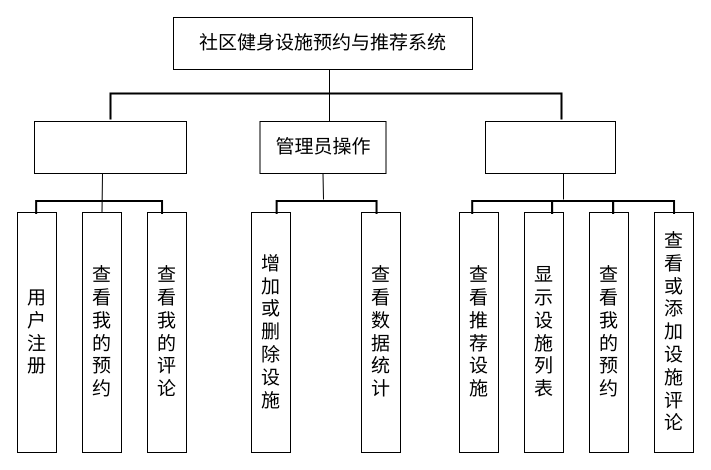
This 711x470 diagram has some shape labels left out. Each missing label, with the box of its shape:
健身设施操作: (484, 120, 616, 174)
用户中心: (34, 120, 186, 174)
